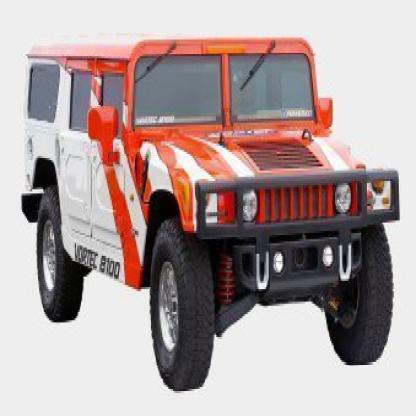Vehicle: (22, 37, 403, 396)
